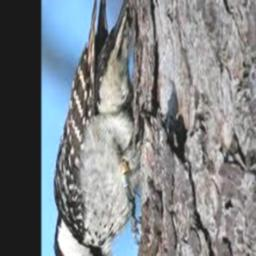Woodpecker: (53, 0, 164, 256)
